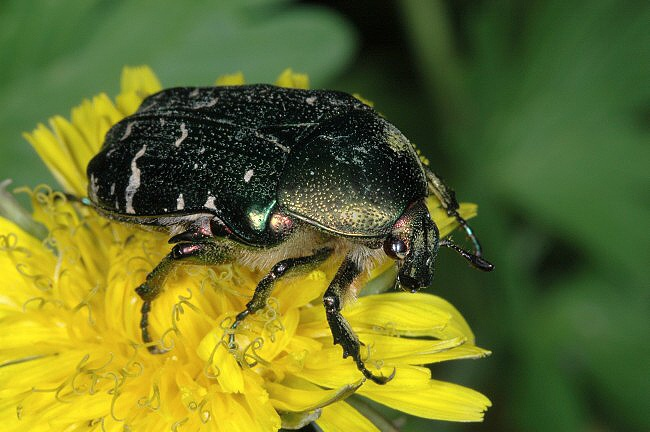Cetonia_aurata: (68, 75, 500, 387)
